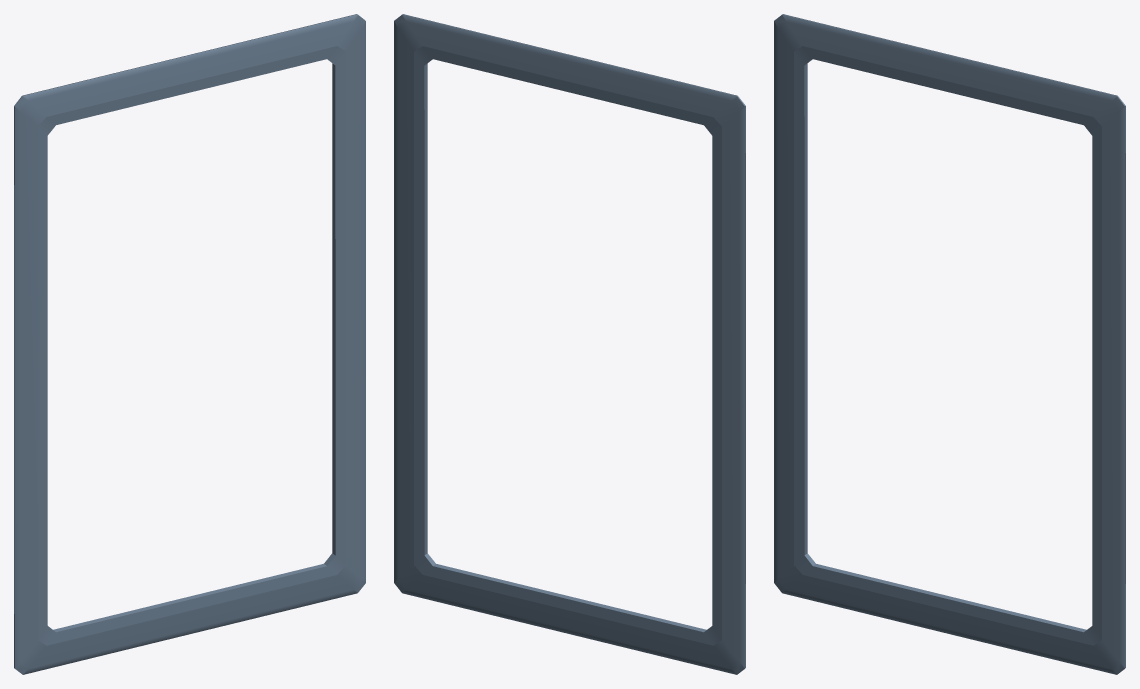
Rendered from PuertaMovible1.obj.
3 renders of one model, left to right at view 1: azimuth 30°, elevation 25°; view 2: azimuth 150°, elevation 25°; view 3: azimuth 330°, elevation 25°, orthographic.
Parts seen in each view (by area): view 1: pasted__pasted__pasted__pasted__pasted__pCube1 pasted__pasted__p; view 2: pasted__pasted__pasted__pasted__pasted__pCube1 pasted__pasted__p; view 3: pasted__pasted__pasted__pasted__pasted__pCube1 pasted__pasted__p.
Boxes of the visible parts, left/top/right/bottom form: pasted__pasted__pasted__pasted__pasted__pCube1 pasted__pasted__p: left=14, top=14, right=365, bottom=674; pasted__pasted__pasted__pasted__pasted__pCube1 pasted__pasted__p: left=394, top=14, right=745, bottom=674; pasted__pasted__pasted__pasted__pasted__pCube1 pasted__pasted__p: left=774, top=14, right=1125, bottom=674.
Size of the model in its own units: 128 by 202 by 2.46.
1 material, 1 textured.
